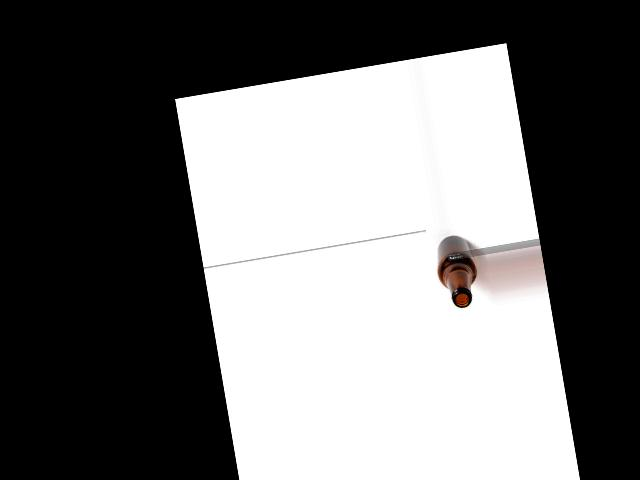beer: (432, 232, 483, 311)
